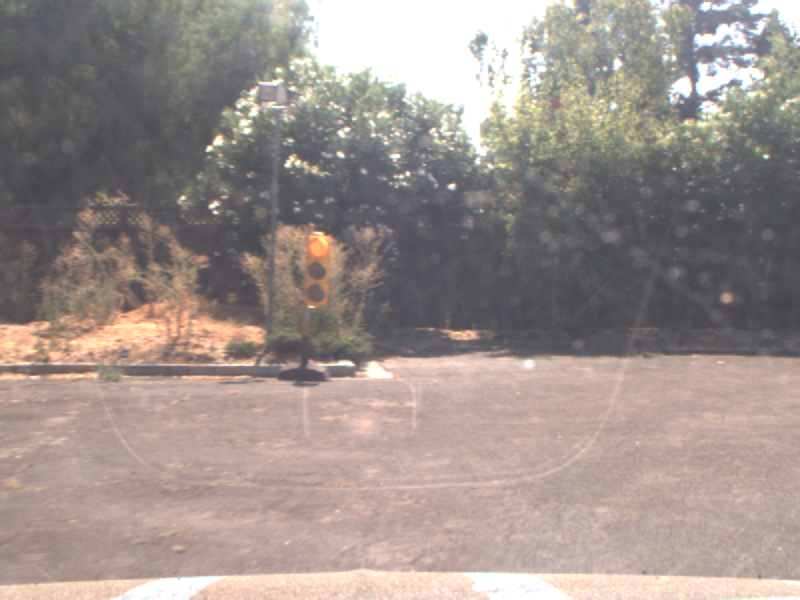red: (302, 231, 329, 308)
